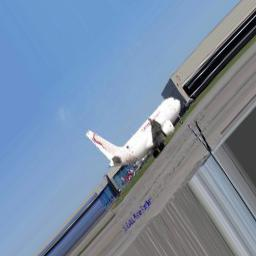Airplane: (83, 95, 183, 168)
